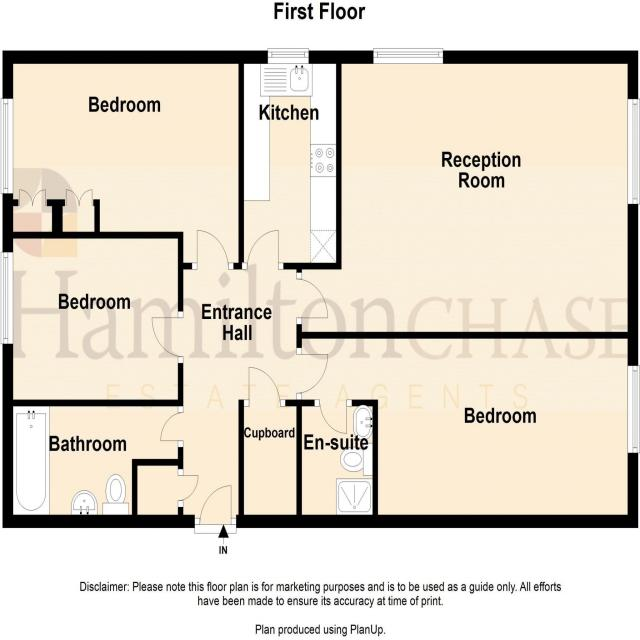DOOR: (194, 484, 237, 534), (190, 228, 235, 269), (151, 310, 184, 364), (241, 229, 284, 270), (296, 271, 328, 325), (296, 347, 328, 400), (313, 399, 352, 435), (160, 405, 183, 448)
ROOM: (296, 47, 640, 339), (296, 332, 639, 529), (0, 50, 245, 270), (0, 231, 184, 407), (238, 48, 342, 270)
WINDOW: (627, 97, 640, 206), (0, 96, 14, 195), (372, 46, 444, 65), (0, 250, 14, 347), (627, 364, 640, 455), (267, 48, 309, 64)
